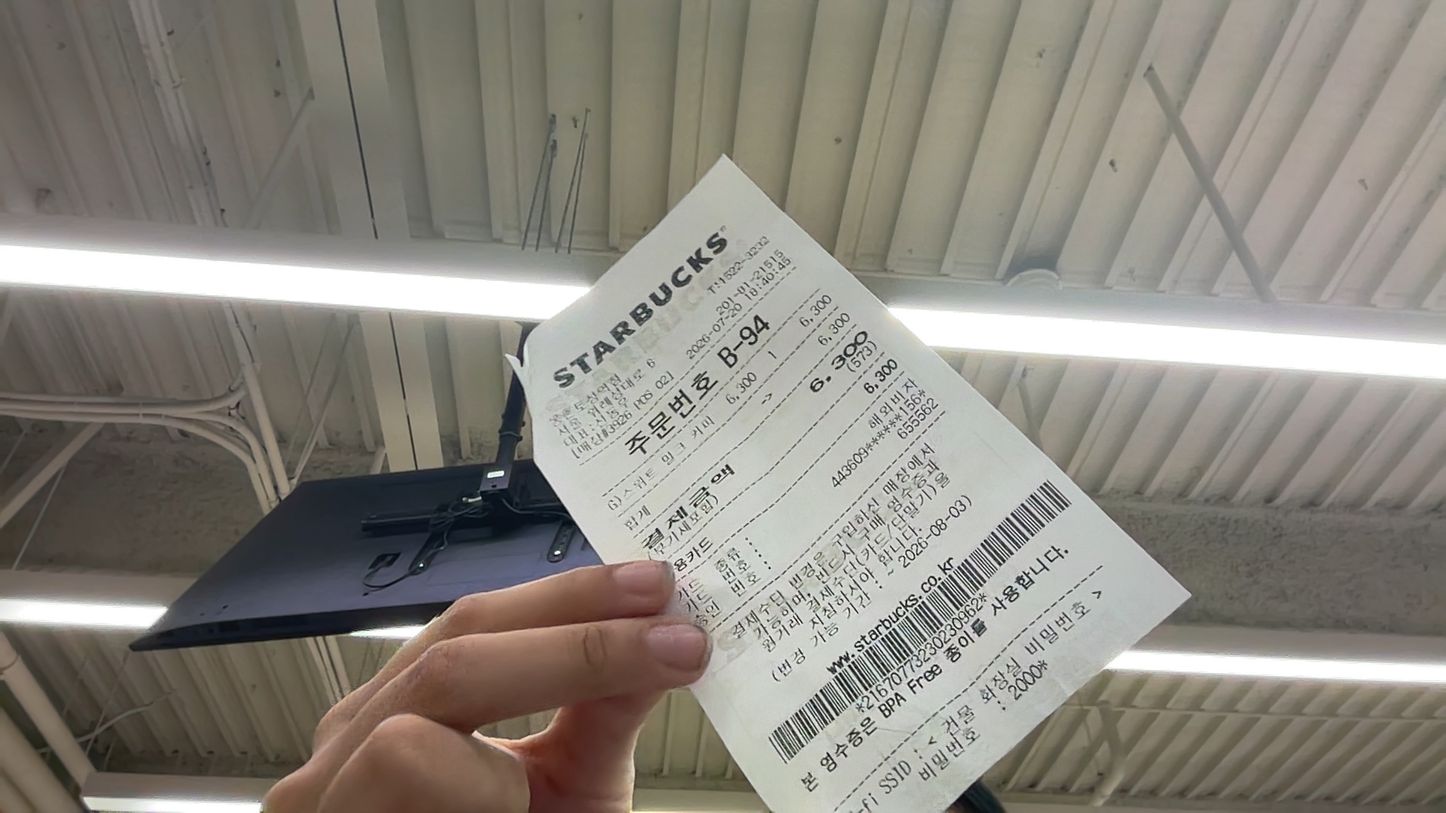Paper: (4, 401, 280, 613)
